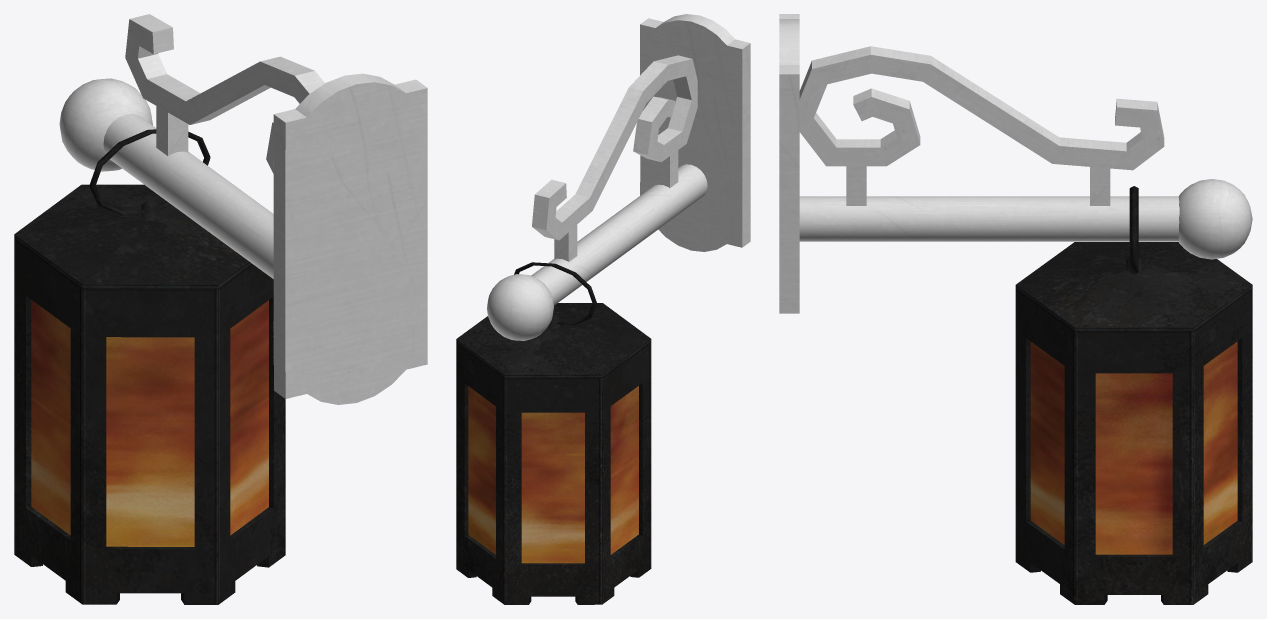
Rendered from wall lantern.obj.
3 renders of one model, left to right at view 1: azimuth 30°, elevation 25°; view 2: azimuth 150°, elevation 25°; view 3: azimuth 270°, elevation 25°, orthographic. The views are drawn at different scales.
Visible parts, largest first — view 1: wall_lantern; view 2: wall_lantern; view 3: wall_lantern.
Part boxes in pixels (bbox=[...]): wall_lantern: bbox=[14, 14, 427, 604]; wall_lantern: bbox=[456, 14, 750, 604]; wall_lantern: bbox=[779, 14, 1252, 604].
Size of the model in its own units: 1 by 2.92 by 2.33.
Materials: 2 (2 with a texture image).
